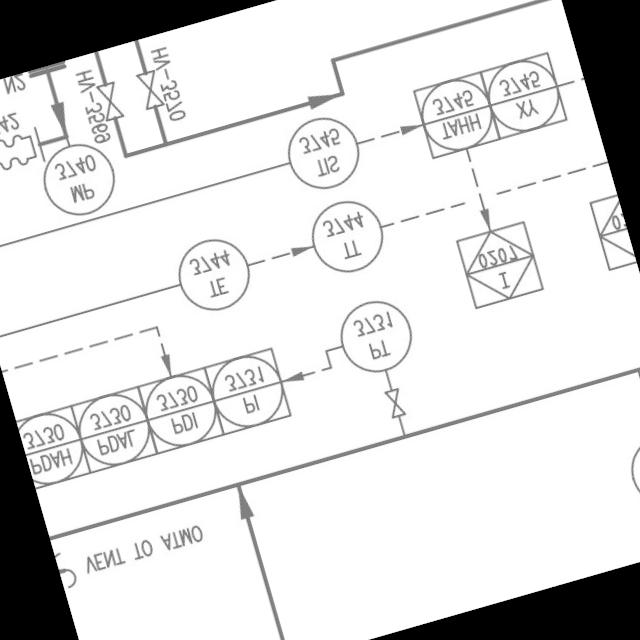EJ: (0, 120, 47, 187)
GV: (91, 76, 131, 128), (132, 63, 170, 114), (376, 379, 414, 428)
